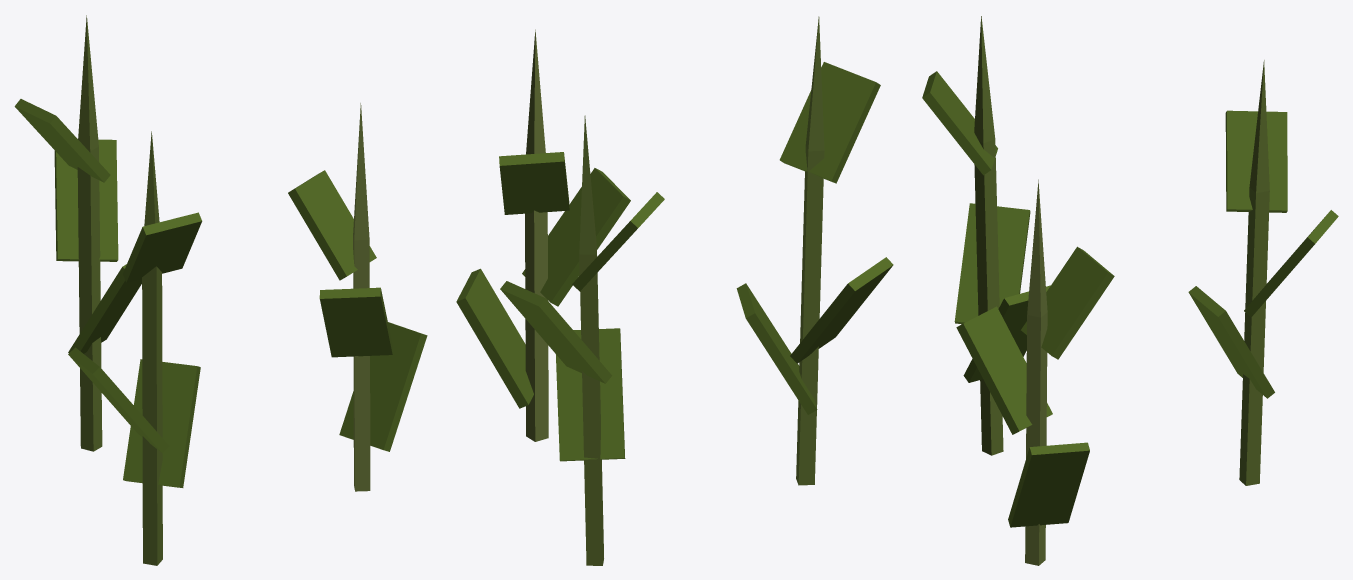
Rendered from wheatstage2.glb.
The picture shows the model from 3 angles, left to right: view 1: azimuth 30°, elevation 25°; view 2: azimuth 150°, elevation 25°; view 3: azimuth 270°, elevation 25°; orthographic projection. The views are drawn at different scales.
Visible parts, largest first — view 1: Cube.003; view 2: Cube.003; view 3: Cube.003.
Boxes of the visible parts, box(x1,y1,x2,y2) form: Cube.003: box(14, 15, 427, 565); Cube.003: box(456, 16, 893, 565); Cube.003: box(922, 16, 1338, 565).
Size of the model in its own units: 0.8276 by 0.9463 by 0.8231.
